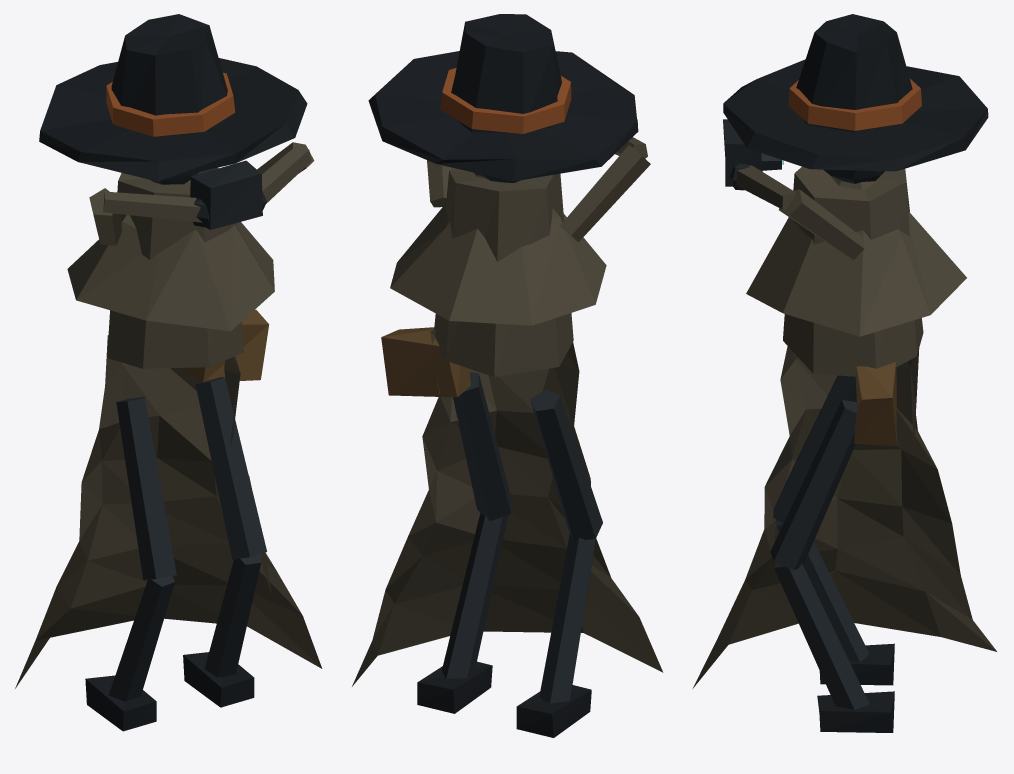
File: southpoint-photographer-v1.glb
The picture shows the model from 3 angles, left to right: view 1: azimuth 30°, elevation 25°; view 2: azimuth 150°, elevation 25°; view 3: azimuth 270°, elevation 25°; orthographic projection.
Parts seen in each view (by area): view 1: Southpoint Photographer, object 4, object 5, object 6; view 2: Southpoint Photographer, object 4, object 5, object 6; view 3: Southpoint Photographer, object 4, object 5, object 6.
Part boxes in pixels (<box>): Southpoint Photographer: <box>15,142,322,731</box>; object 4: <box>39,58,307,181</box>; object 5: <box>111,14,234,136</box>; object 6: <box>106,72,235,136</box>; Southpoint Photographer: <box>352,137,663,737</box>; object 4: <box>368,51,638,181</box>; object 5: <box>451,14,561,132</box>; object 6: <box>440,67,571,133</box>; Southpoint Photographer: <box>692,119,996,732</box>; object 4: <box>723,59,988,171</box>; object 5: <box>796,14,918,132</box>; object 6: <box>788,79,921,130</box>.
Size of the model in its own units: 0.831 by 1.97 by 0.8194.
